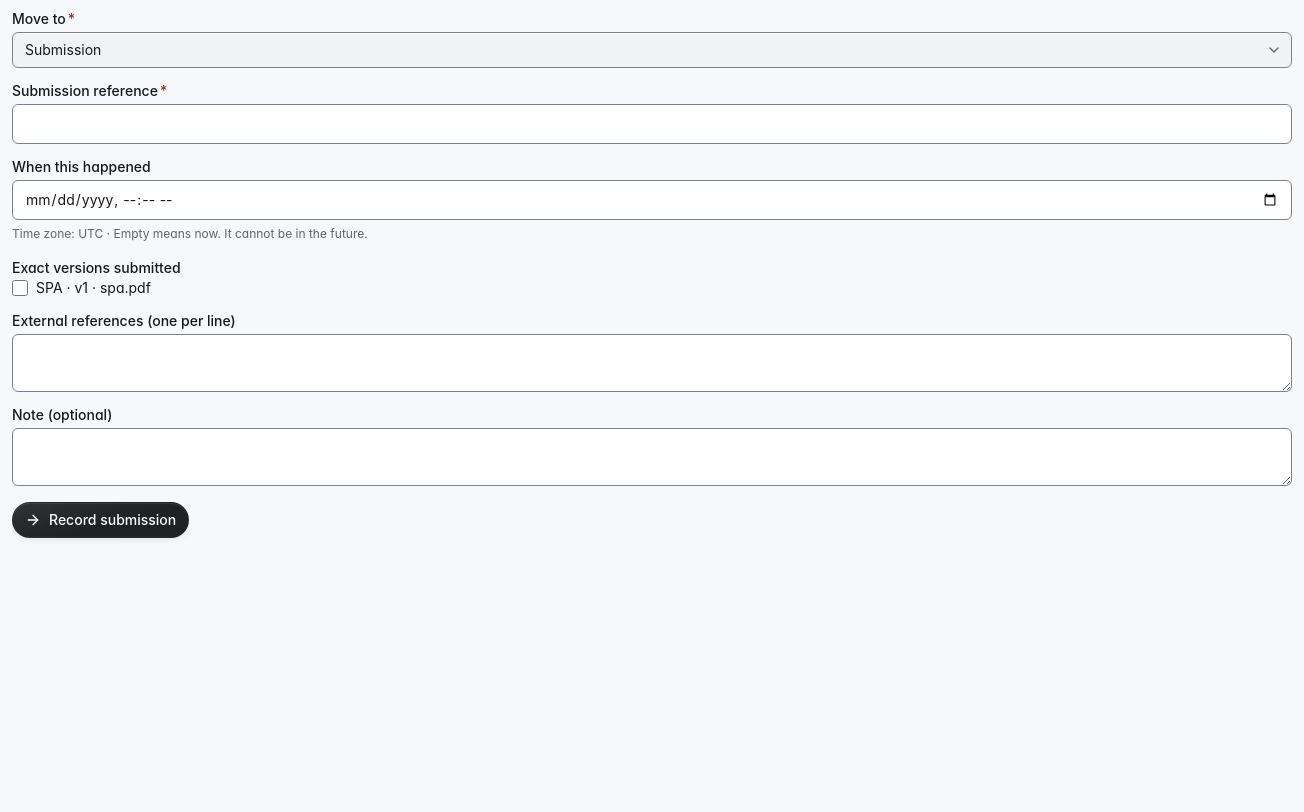
AdvanceForm › shows the domain’s own reason when the guard refuses, and nothing is assumed saved
Type "SUB-1" into the field labelled "Submission reference*" at (652, 124), box [12, 104, 1292, 144]
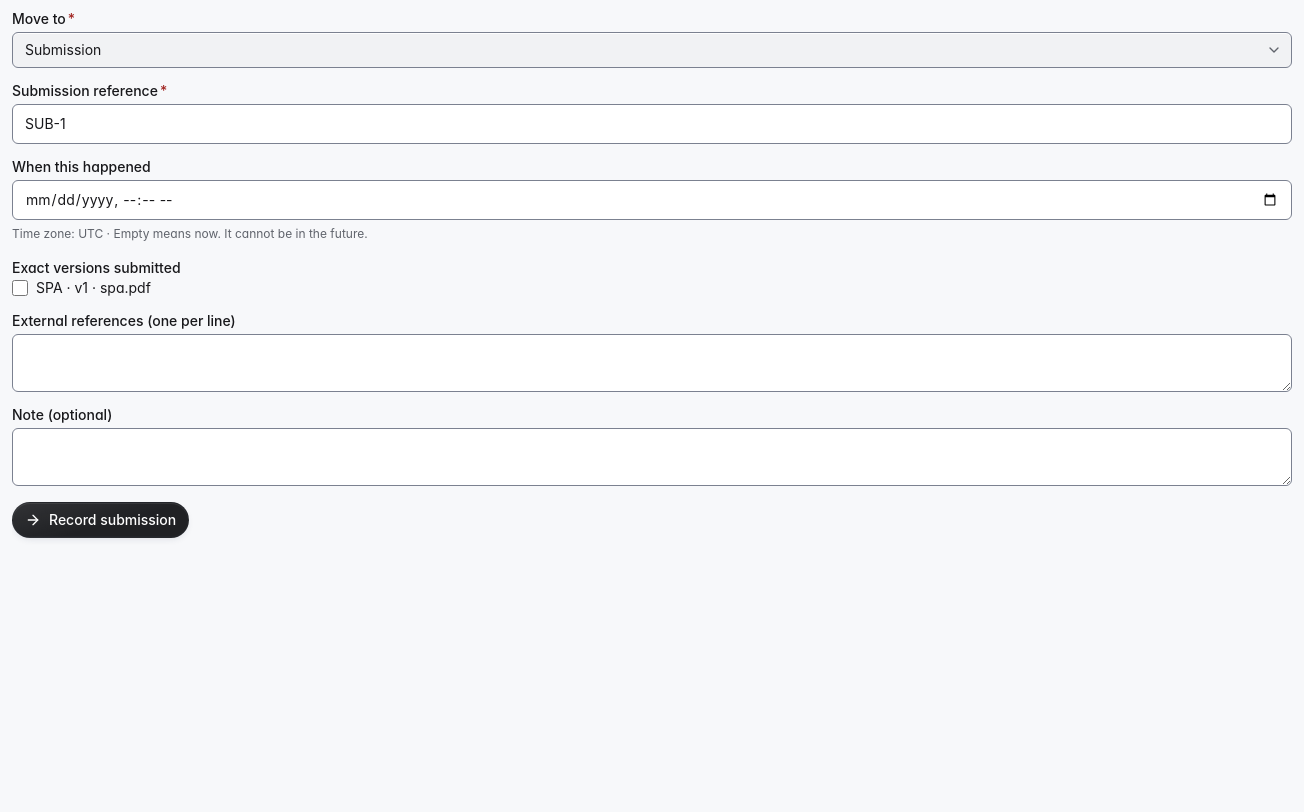
Click the button "Record submission" at (101, 520), box [12, 502, 189, 538]
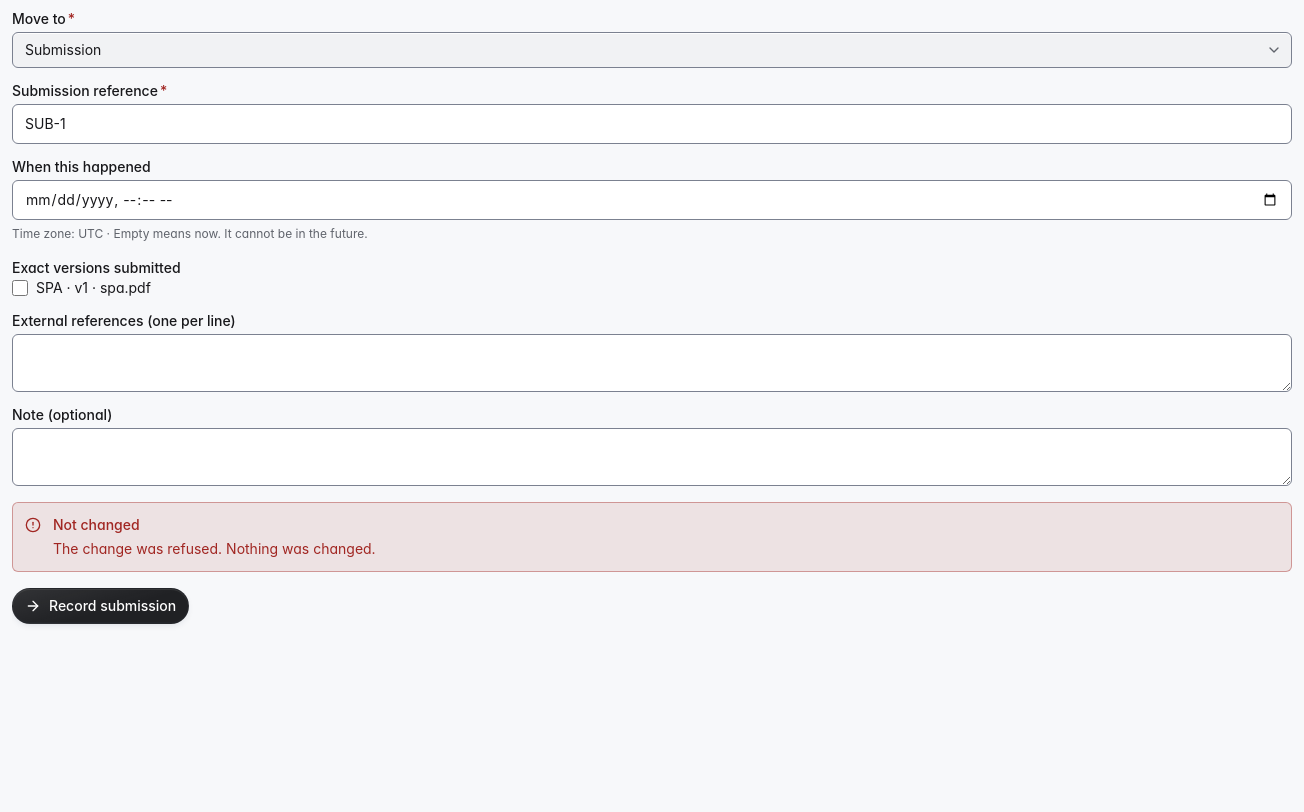
Expected: the text "The change was refused. Nothing was changed." is shown, [53, 539, 376, 559]
